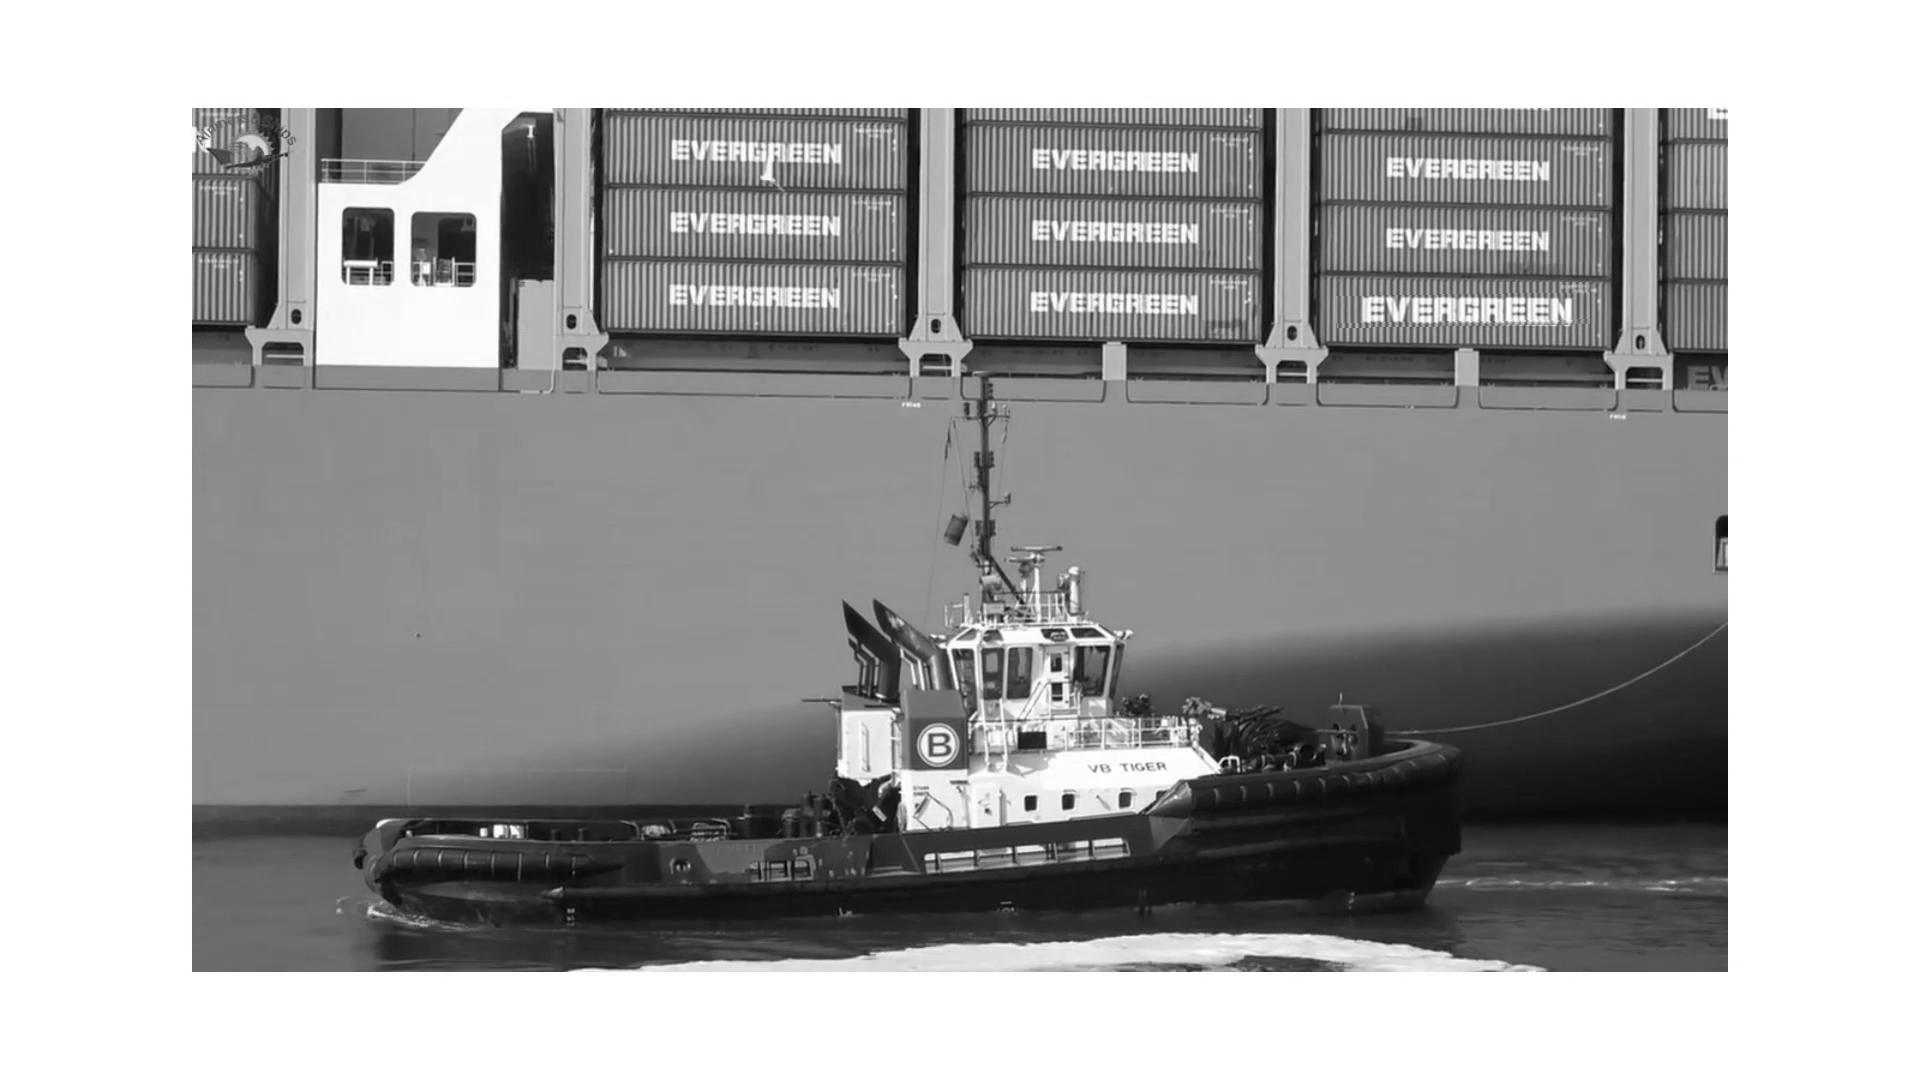OCR: (1335, 282, 1590, 328)
